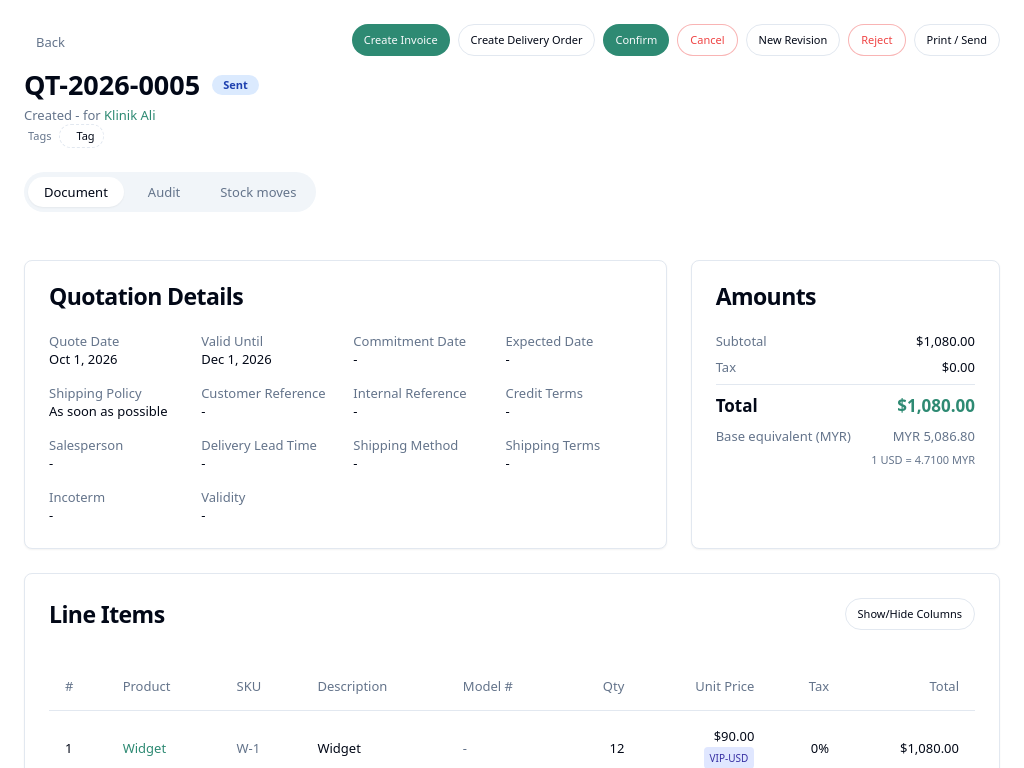
Test: Price explanation popover on document detail pages (#342) › quotation detail explains list, tier and FX — and margin only for cost roles
Click the button with aria-label "how this price was set: VIP-USD". click: [729, 758]
box: [704,746,754,767]
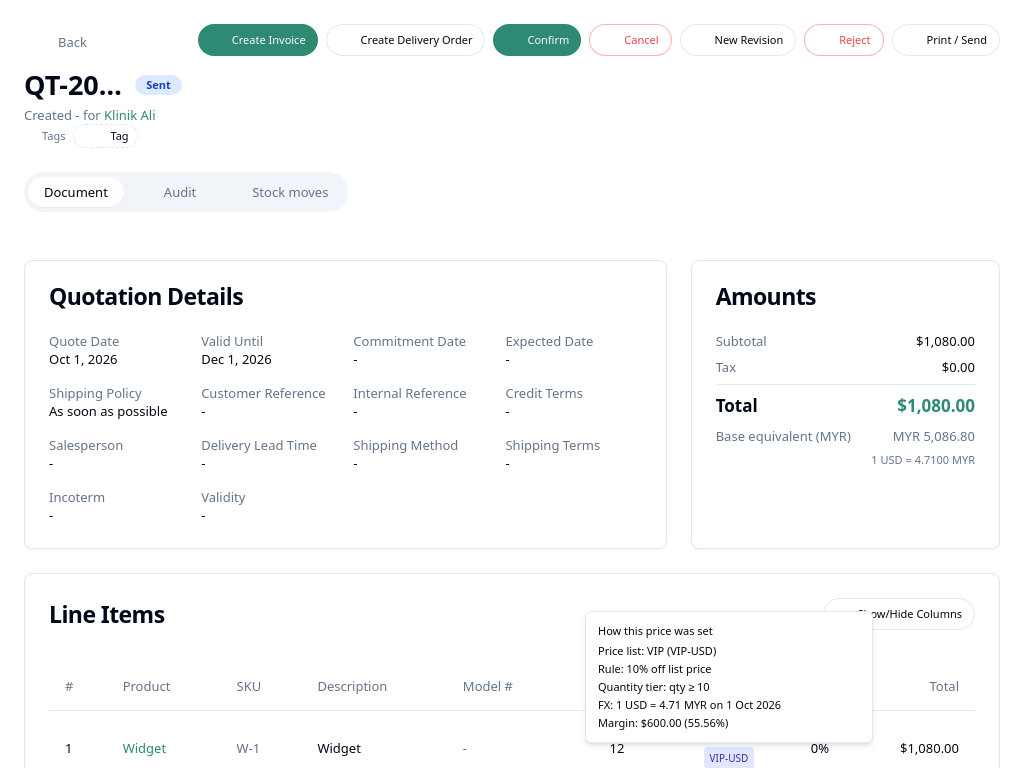
Expected: the list item "Price list: VIP (VIP-USD)" is shown, [598,643,716,658]
Expected: the list item "Rule: 10% off list price" is shown, [598,661,712,676]
Expected: the list item "Quantity tier: qty ≥ 10" is shown, [598,679,710,694]
